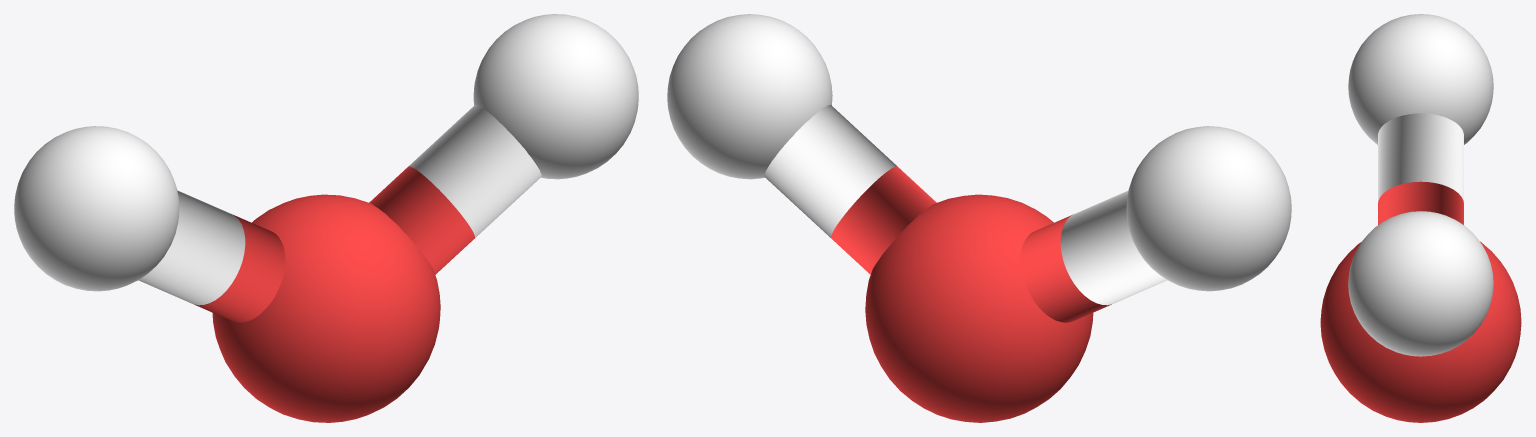
3 views of the same model, side by side, from view 1: azimuth 30°, elevation 25°; view 2: azimuth 150°, elevation 25°; view 3: azimuth 270°, elevation 25° (orthographic). The views are drawn at different scales.
Visible parts, largest first — view 1: h2o; view 2: h2o; view 3: h2o.
Part boxes in pixels (left/top/right/bottom): h2o: left=14, top=14, right=638, bottom=422; h2o: left=667, top=14, right=1291, bottom=422; h2o: left=1320, top=14, right=1521, bottom=422.
Size of the model in its own units: 2.13 by 1.13 by 0.699.
